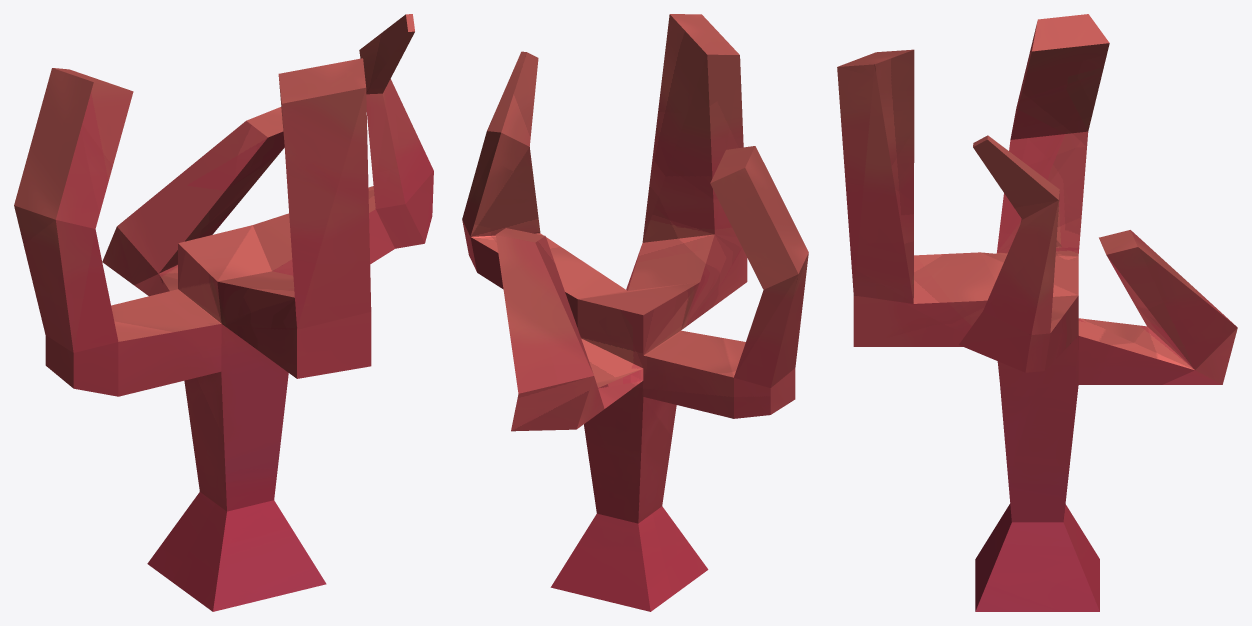
File: coral1.fbx
The picture shows the model from 3 angles, left to right: view 1: azimuth 30°, elevation 25°; view 2: azimuth 150°, elevation 25°; view 3: azimuth 270°, elevation 25°; orthographic projection. The views are drawn at different scales.
Parts seen in each view (by area): view 1: Cube; view 2: Cube; view 3: Cube.
Boxes of the visible parts, x1,y1,x2,y2 form: Cube: (14, 14, 433, 611); Cube: (462, 14, 808, 611); Cube: (837, 14, 1237, 611).
Size of the model in its own units: 351 by 476 by 320.
